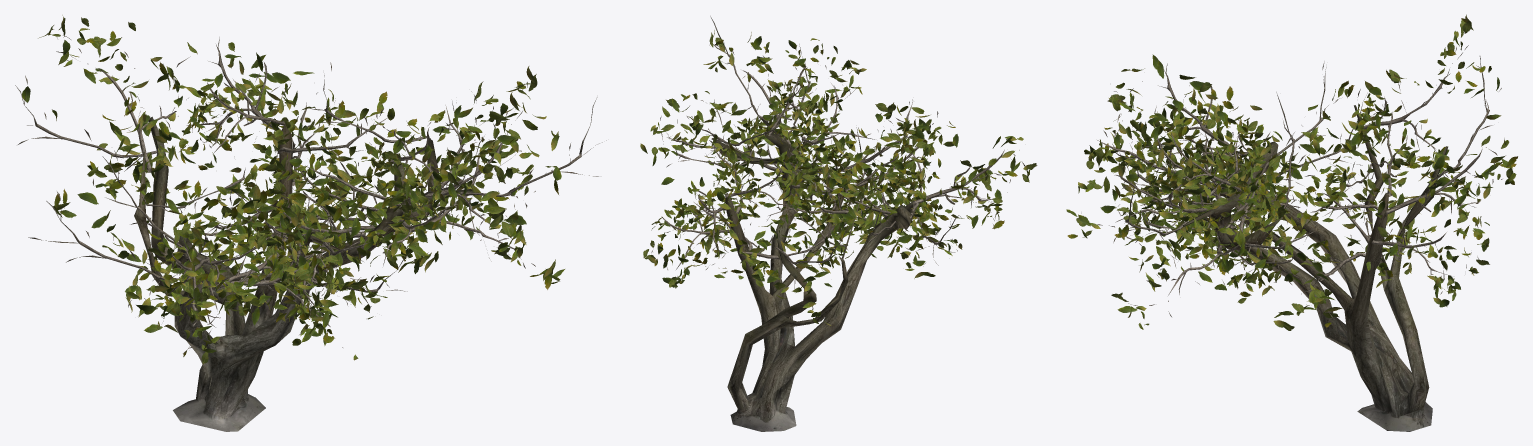
Rendered from ph-island-tree-02.glb.
3 renders of one model, left to right at view 1: azimuth 30°, elevation 25°; view 2: azimuth 150°, elevation 25°; view 3: azimuth 270°, elevation 25°, orthographic. The views are drawn at different scales.
Visible parts, largest first — view 1: island_tree_02_LOD0; view 2: island_tree_02_LOD0; view 3: island_tree_02_LOD0.
Boxes of the visible parts, bbox=[...] form: island_tree_02_LOD0: bbox=[15, 15, 606, 431]; island_tree_02_LOD0: bbox=[640, 16, 1037, 431]; island_tree_02_LOD0: bbox=[1066, 14, 1517, 431].
Bounding box in the file's own units: 4.11 × 3.43 × 4.02.
3 materials, 3 textured.
